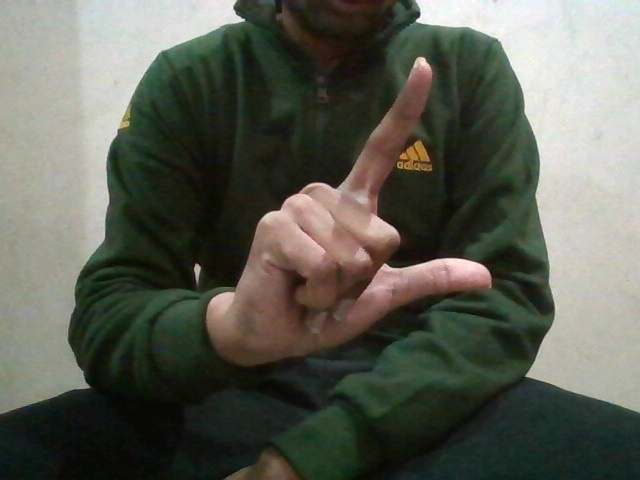L: (232, 53, 498, 350)
